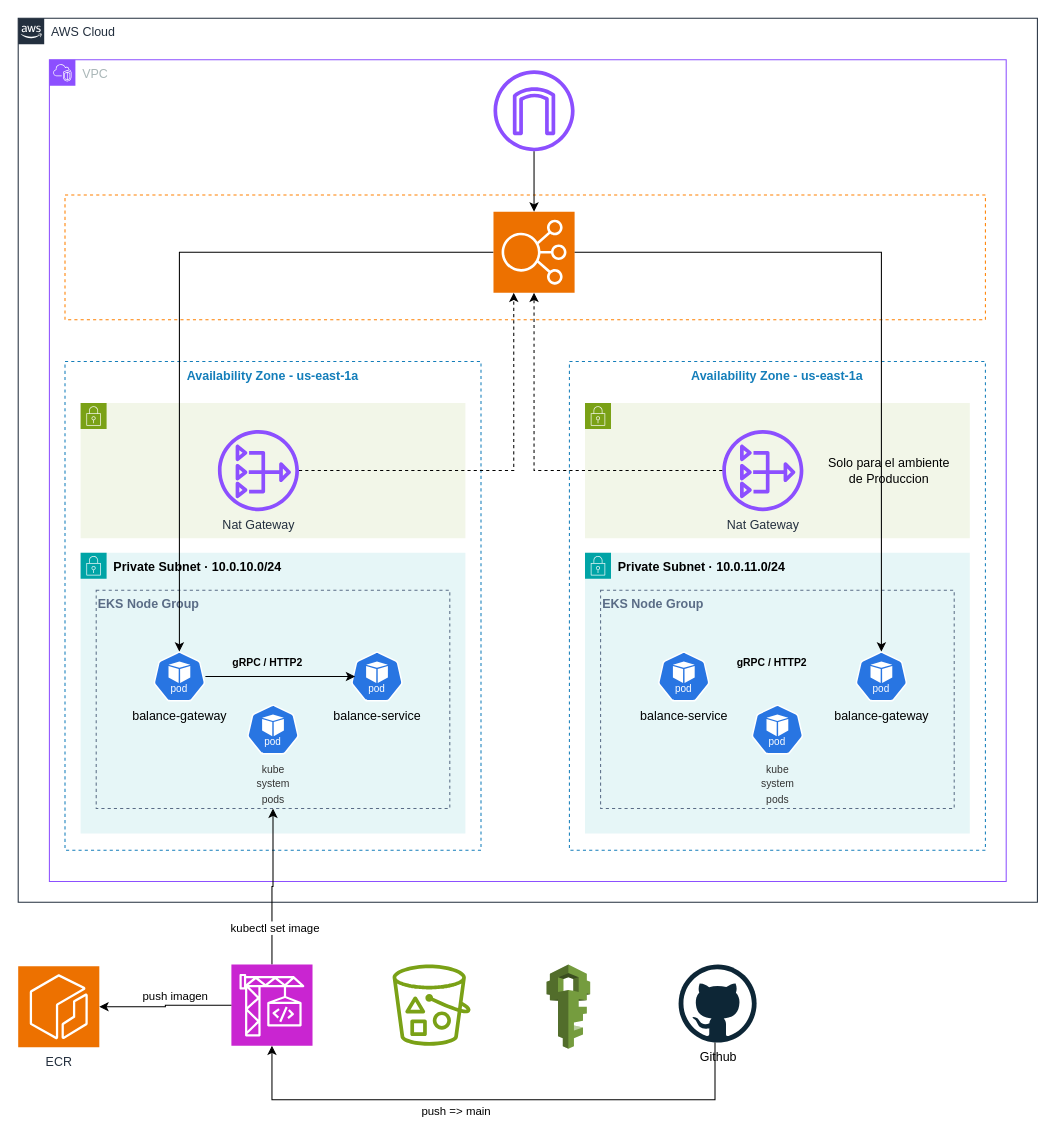
This 1056x1136 diagram has some shape labels left out. Here are the shapes that lost their labels. From the top down, the box of each, then its label:
(493, 70, 574, 151): Internet Gateway
(492, 211, 575, 293): Application Load Balancer
(80, 402, 465, 538): Public Subnet · 10.0.1.0/24
(584, 402, 970, 538): Public Subnet · 10.0.2.0/24
(230, 964, 313, 1046): CodeBuild
(392, 964, 470, 1045): S3 Bucket State
(545, 964, 590, 1049): IAM / IRSA
